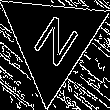N_SW: (24, 8, 81, 73)
